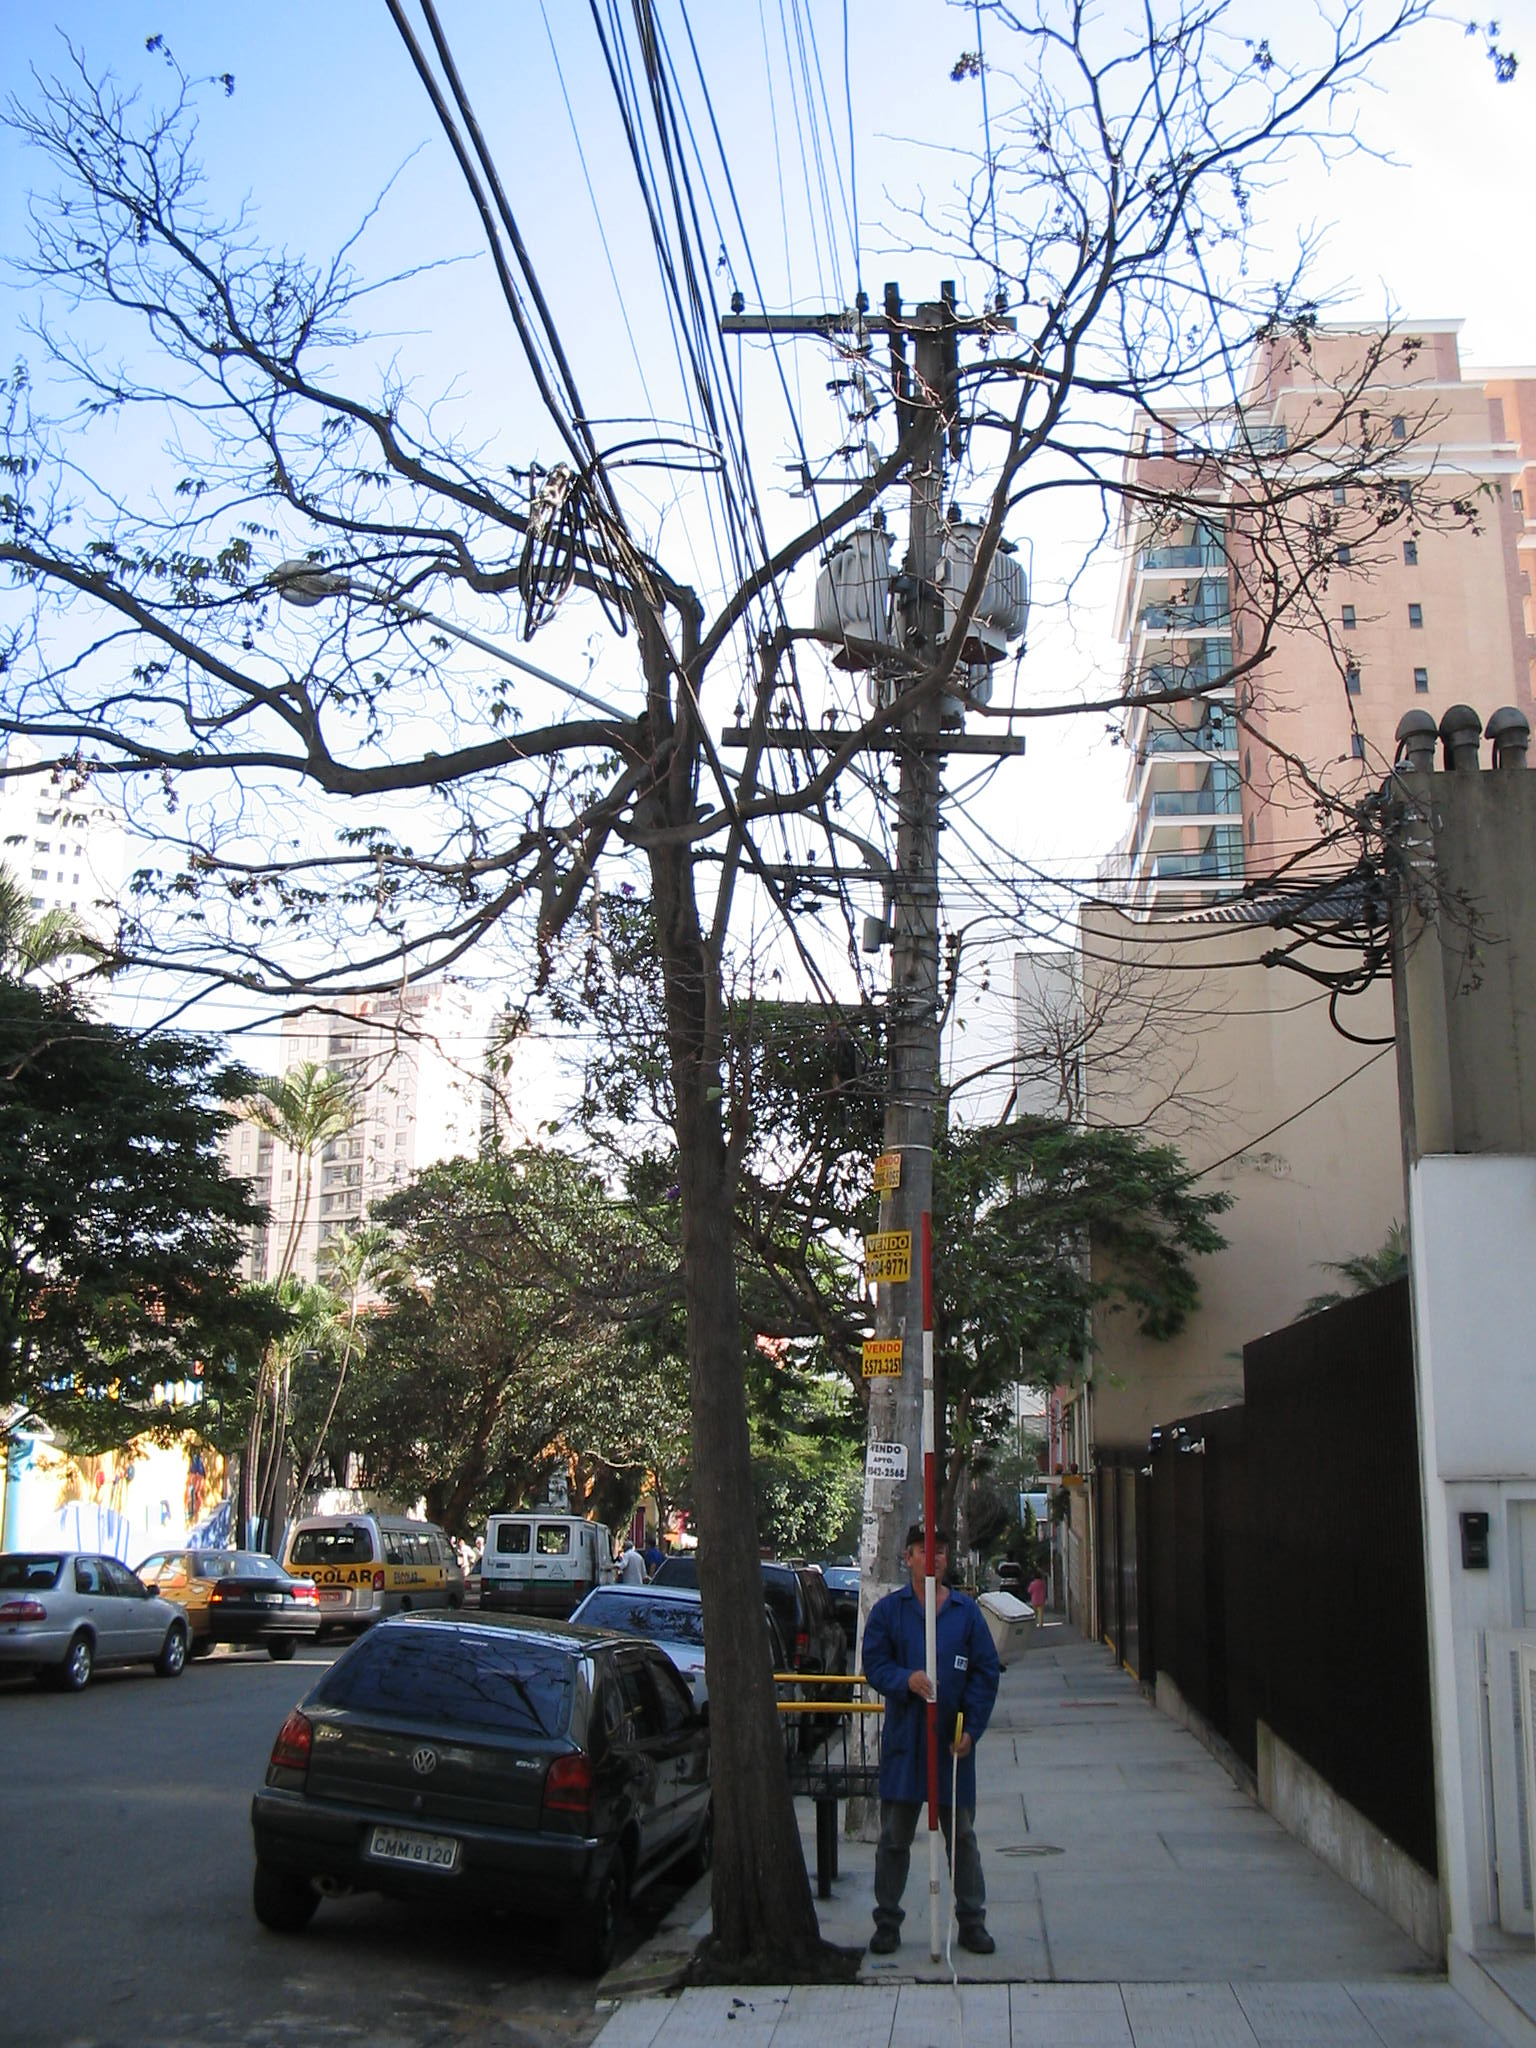stem: (636, 1129, 857, 1987)
stick: (887, 1216, 987, 1964)
tree: (6, 3, 1525, 1992)
